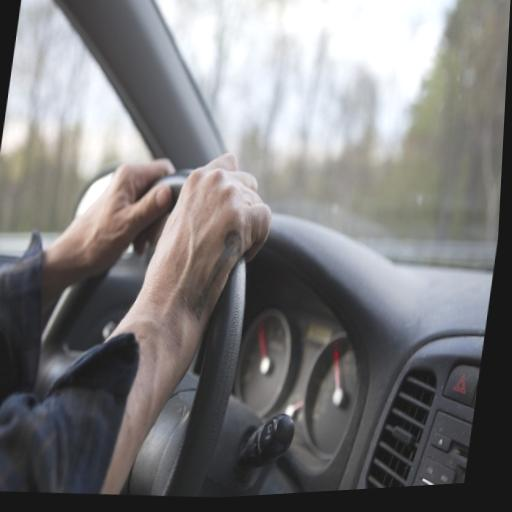Hands-on-the-Wheel: (127, 133, 300, 319), (49, 128, 182, 265)
